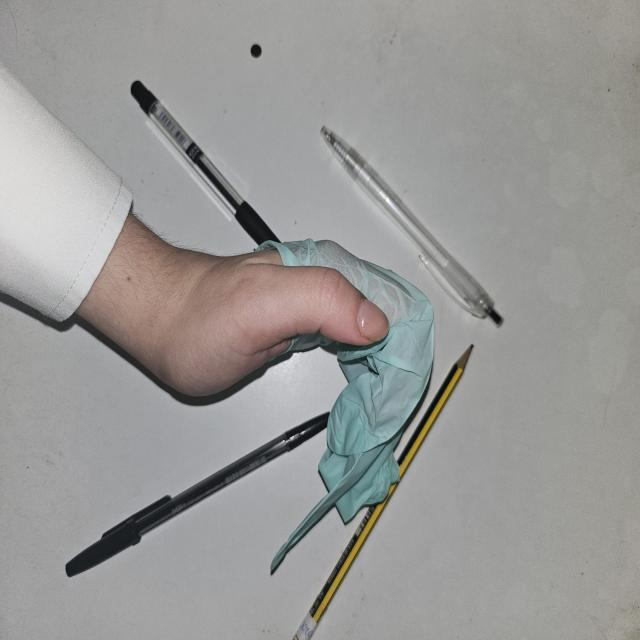glove_partial: (148, 238, 436, 575)
